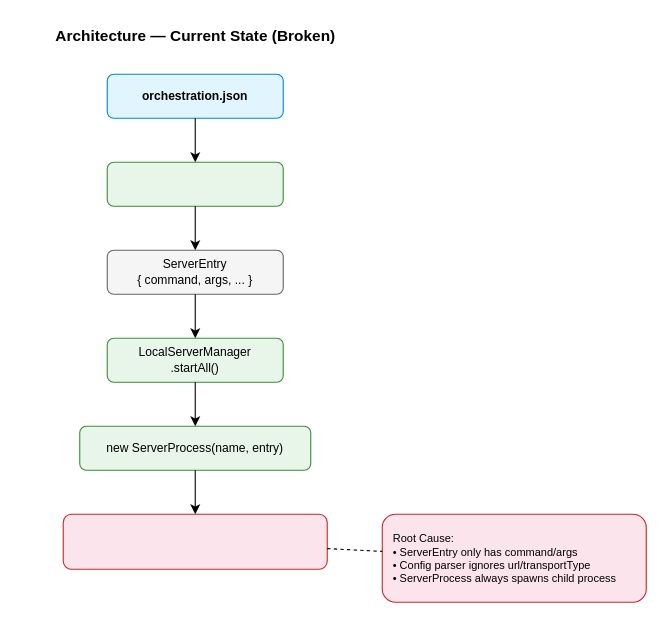
Image size: 666x622. Some labels were removed from this diagram. Each missing label, with the box of its shape:
parseConfig(): (106, 161, 283, 206)
spawn(entry.command, entry.args) ❌ FAILS when command=undefined: (62, 513, 327, 569)
